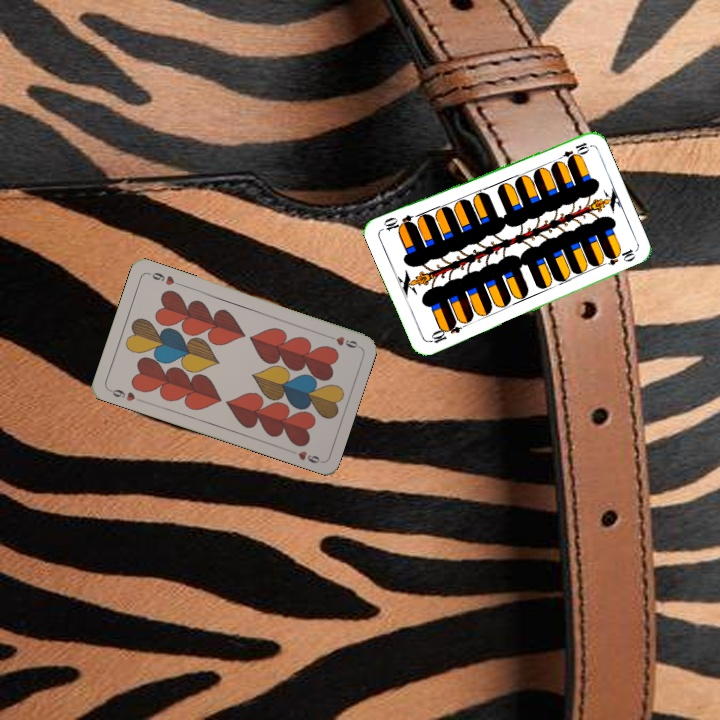E10: (425, 318, 464, 346), (552, 138, 591, 164)
H9: (322, 331, 362, 351), (105, 385, 145, 404)
